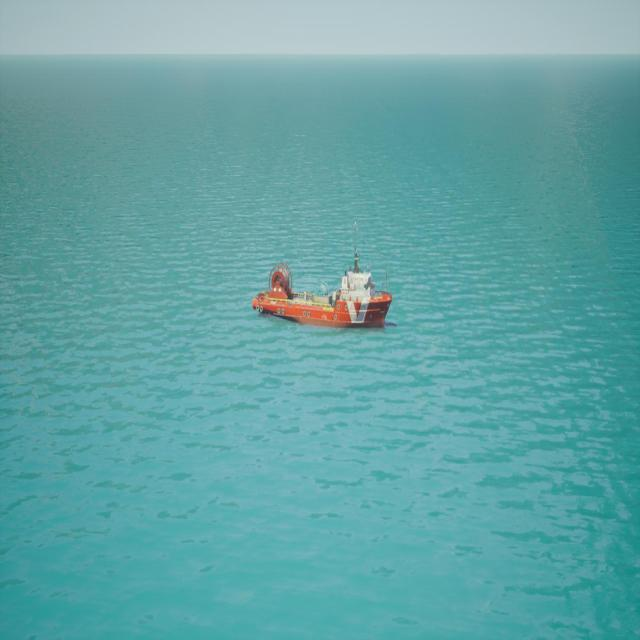tug boat: (253, 226, 395, 335)
